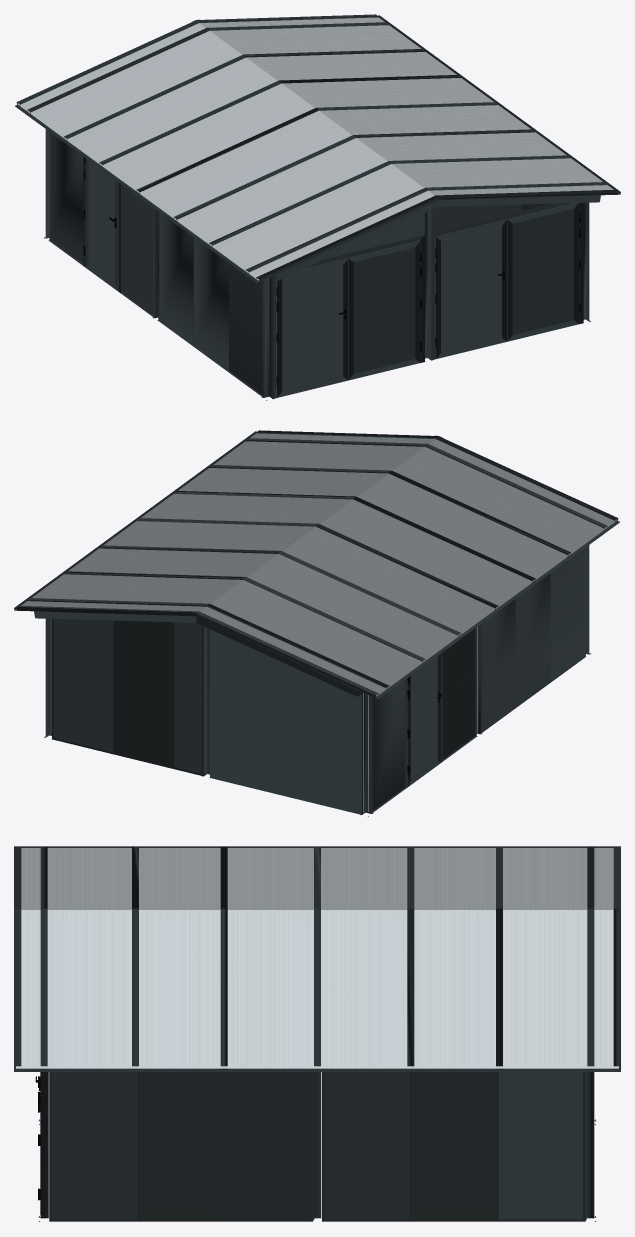
3 renders of one model, top to bottom at view 1: azimuth 30°, elevation 25°; view 2: azimuth 150°, elevation 25°; view 3: azimuth 270°, elevation 25°, orthographic. The views are drawn at different scales.
Parts seen in each view (by area): view 1: priximbattable_net_abris_de_voiture_640016_double_garage_pol, folha_2, folha_4, folha_3, folha_5, folha, porta_dupla_1, porta_dupla, porta; view 2: priximbattable_net_abris_de_voiture_640016_double_garage_pol, folha, porta; view 3: priximbattable_net_abris_de_voiture_640016_double_garage_pol.
Boxes of the visible parts, x1,y1,x2,y2 form: priximbattable_net_abris_de_voiture_640016_double_garage_pol: (15, 14, 620, 400); folha_2: (348, 240, 421, 380); folha_4: (507, 203, 580, 341); folha_3: (276, 258, 348, 397); folha_5: (435, 219, 506, 358); folha: (83, 157, 118, 291); porta_dupla_1: (271, 235, 424, 398); porta_dupla: (431, 202, 583, 360); porta: (83, 157, 120, 293); priximbattable_net_abris_de_voiture_640016_double_garage_pol: (14, 430, 619, 816); folha: (407, 654, 440, 786); porta: (405, 652, 442, 788); priximbattable_net_abris_de_voiture_640016_double_garage_pol: (14, 846, 620, 1221).
Bounding box in the file's own units: 599 × 270 × 690.
Materials: 1 (1 with a texture image).
